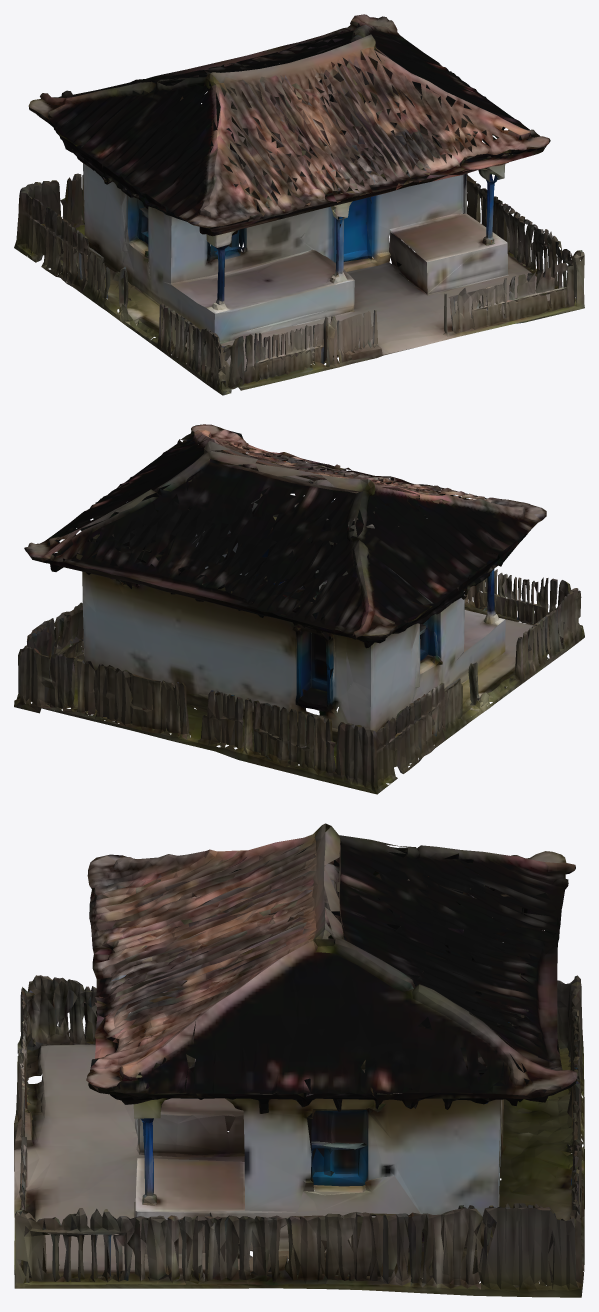
File: house_old.glb
The picture shows the model from 3 angles, top to bottom: view 1: azimuth 30°, elevation 25°; view 2: azimuth 150°, elevation 25°; view 3: azimuth 270°, elevation 25°; orthographic projection. The views are drawn at different scales.
Parts seen in each view (by area): view 1: Indian House; view 2: Indian House; view 3: Indian House.
Part boxes in pixels (bbox=[...]): Indian House: bbox=[14, 14, 584, 395]; Indian House: bbox=[14, 424, 584, 794]; Indian House: bbox=[14, 823, 584, 1297].
Bounding box in the file's own units: 7.32 × 4.26 × 7.31.
1 material, 1 textured.
